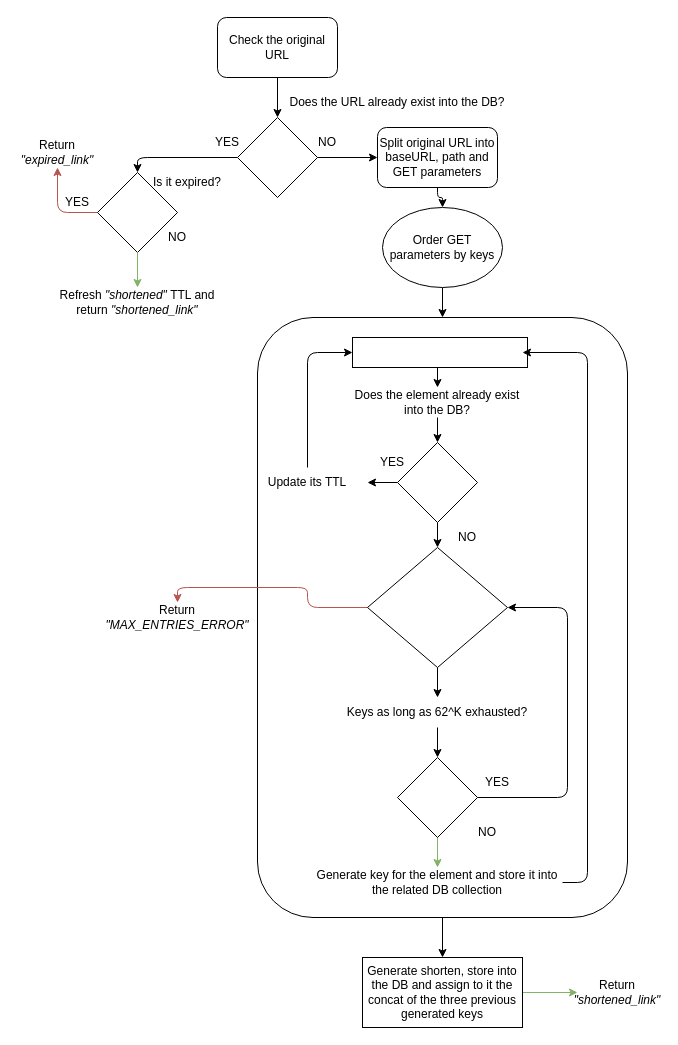
The diagram is 678 pixels wide and 1045 high, and some of its shapes have lost their labels. The box of each missing label's shape, as (x1, y1, x2, y2) in pixels:
For each of the three elements: (352, 336, 528, 368)
Repeat until K <= maxLengthkey: (366, 546, 508, 668)
